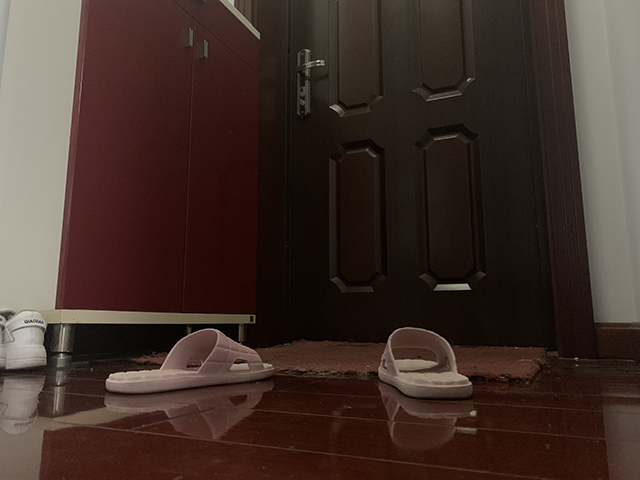cabinet: (1, 1, 262, 356)
carpet: (130, 335, 551, 386)
slippers: (102, 326, 276, 395), (376, 324, 474, 400)
